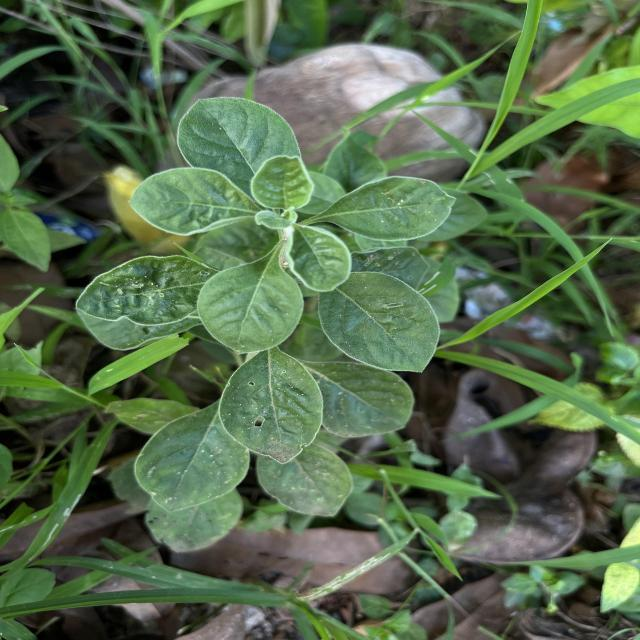Aerva lanata: (174, 94, 306, 202), (314, 270, 444, 374), (217, 346, 326, 466)
